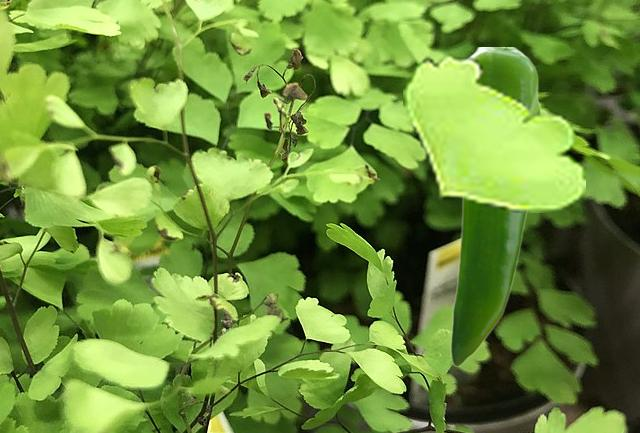green_chili: (450, 47, 540, 365)
